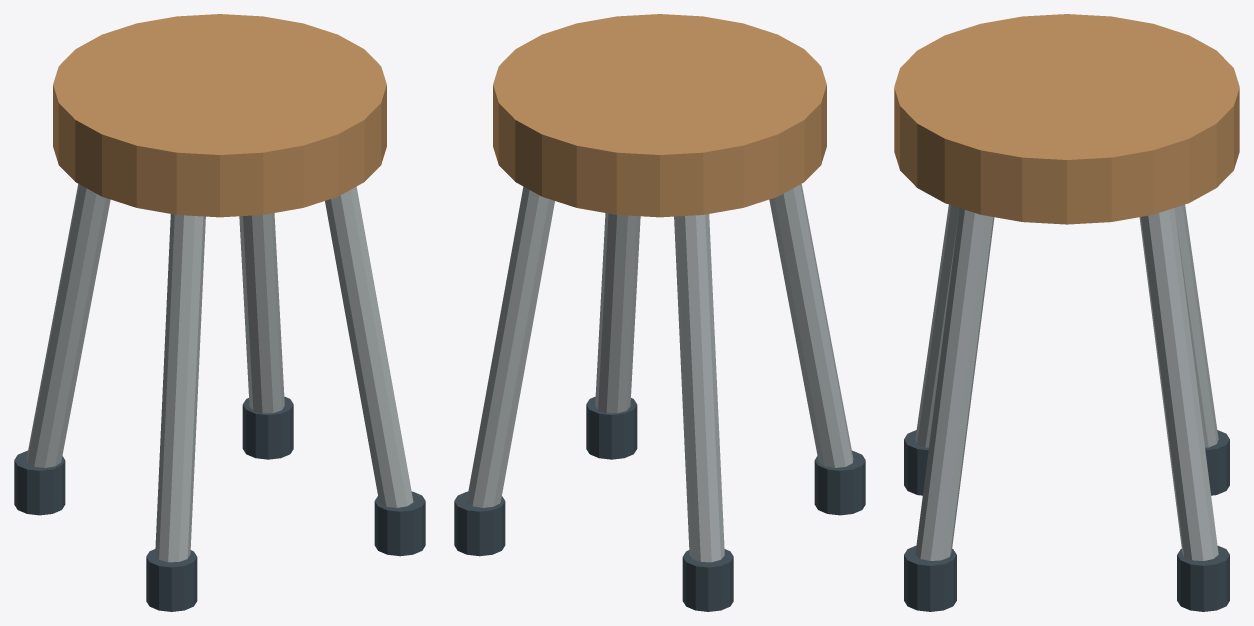
File: TeamStool_starter.glb
The picture shows the model from 3 angles, left to right: view 1: azimuth 30°, elevation 25°; view 2: azimuth 150°, elevation 25°; view 3: azimuth 270°, elevation 25°; orthographic projection. The views are drawn at different scales.
Visible parts, largest first — view 1: Static_wood, Static_steel, Static_dark; view 2: Static_wood, Static_steel, Static_dark; view 3: Static_wood, Static_steel, Static_dark.
Part boxes in pixels (<box>): Static_wood: <box>53,14,386,217</box>; Static_steel: <box>26,184,413,562</box>; Static_dark: <box>14,396,425,611</box>; Static_wood: <box>493,14,826,217</box>; Static_steel: <box>466,184,853,562</box>; Static_dark: <box>454,396,865,611</box>; Static_wood: <box>894,14,1239,224</box>; Static_steel: <box>915,204,1218,560</box>; Static_dark: <box>904,430,1229,611</box>.
Size of the model in its own units: 0.34 by 0.495 by 0.34.
